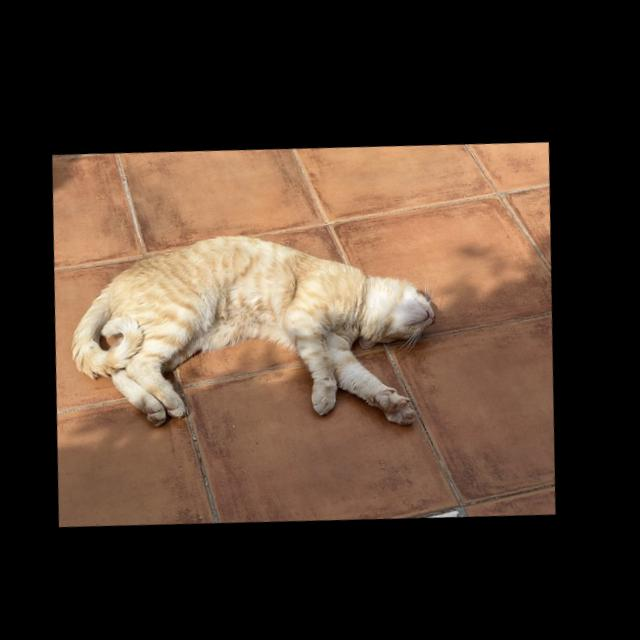animals: (65, 214, 449, 440)
